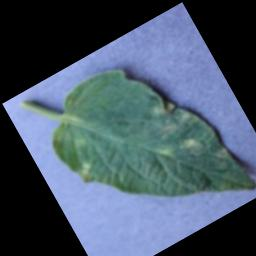Leaf_Mold: (73, 159, 98, 185), (177, 134, 200, 155)
